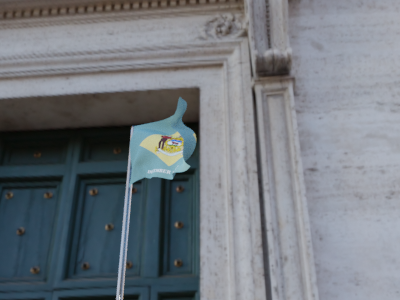Delaware flag: (128, 96, 199, 184)
